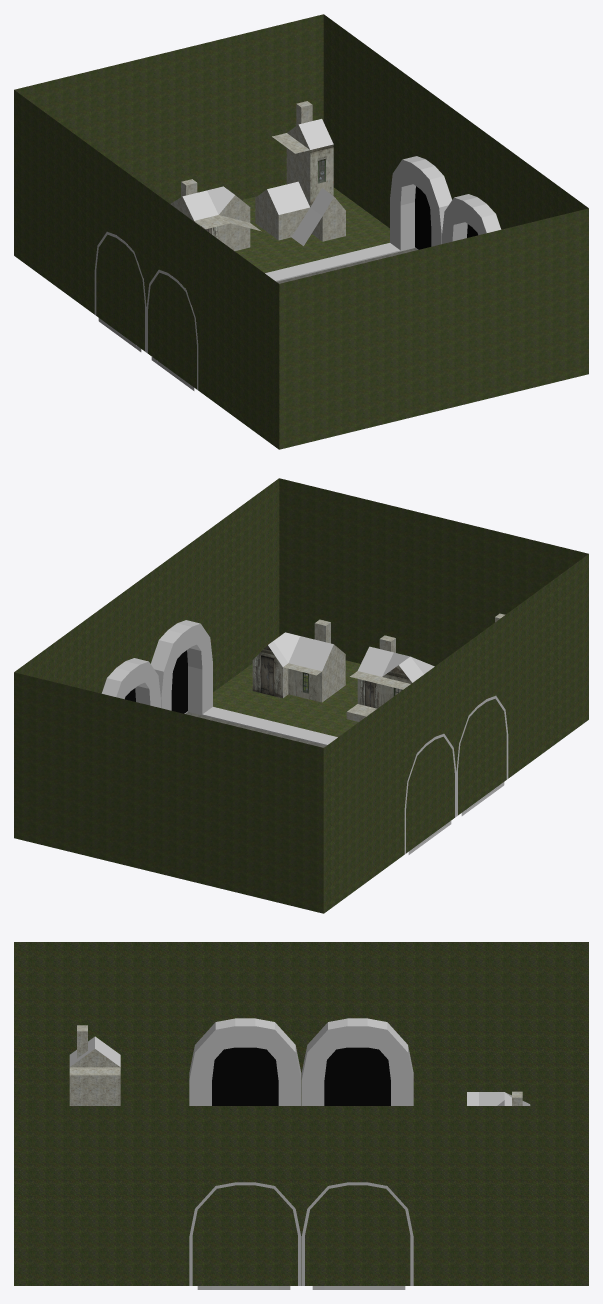
Rendered from map.obj.
The picture shows the model from 3 angles, top to bottom: view 1: azimuth 30°, elevation 25°; view 2: azimuth 150°, elevation 25°; view 3: azimuth 270°, elevation 25°; orthographic projection. The views are drawn at different scales.
Visible parts, largest first — view 1: Plane; view 2: Plane; view 3: Plane.
Part boxes in pixels (<box>): Plane: <box>14,14,588,449</box>; Plane: <box>14,478,588,913</box>; Plane: <box>14,942,588,1289</box>.
Size of the model in its own units: 34.83 by 18.22 by 51.63.
